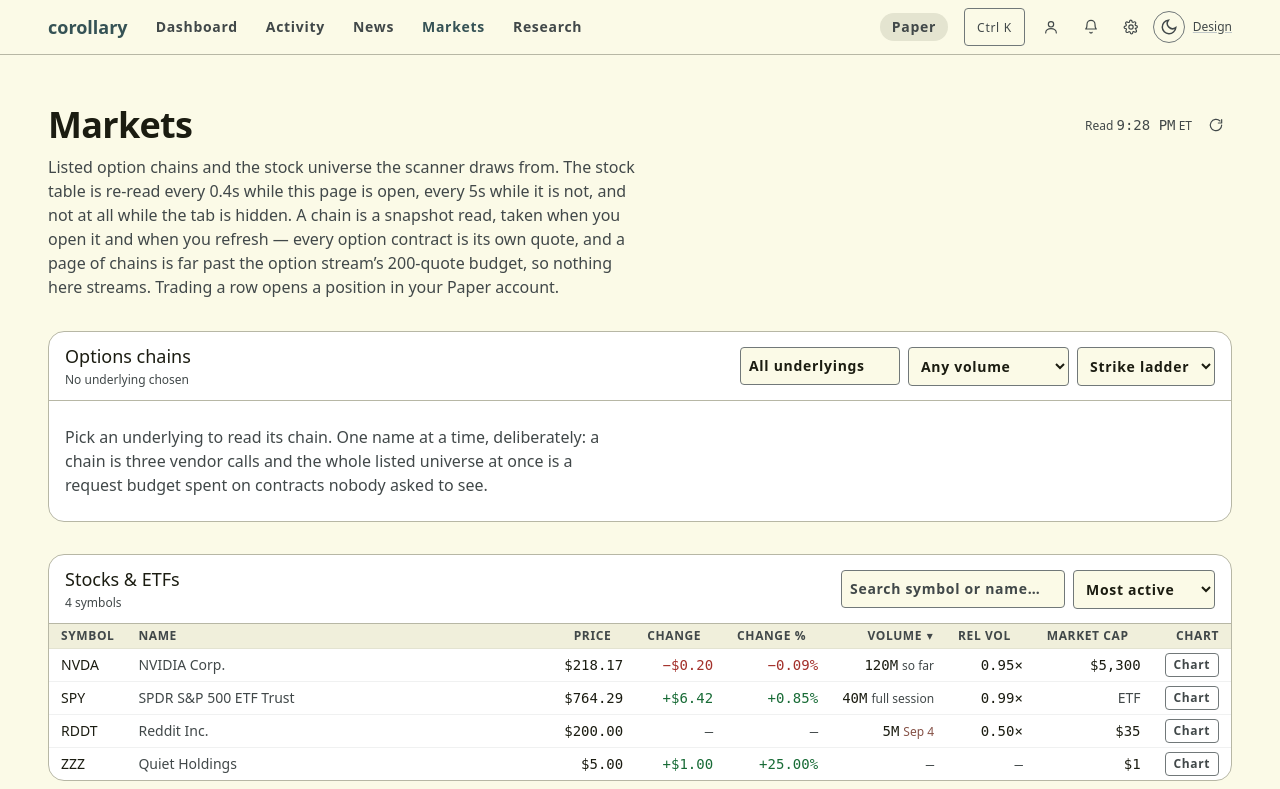
Test: open interest, per decision 15 › prints a real zero and an absence differently
Check: the text "NVIDIA Corp." is shown, box [138, 655, 225, 674]
Step 1. Type "NVDA" into the dropdown with placeholder "All underlyings" → {"x": 820, "y": 366}, box [740, 347, 900, 385]
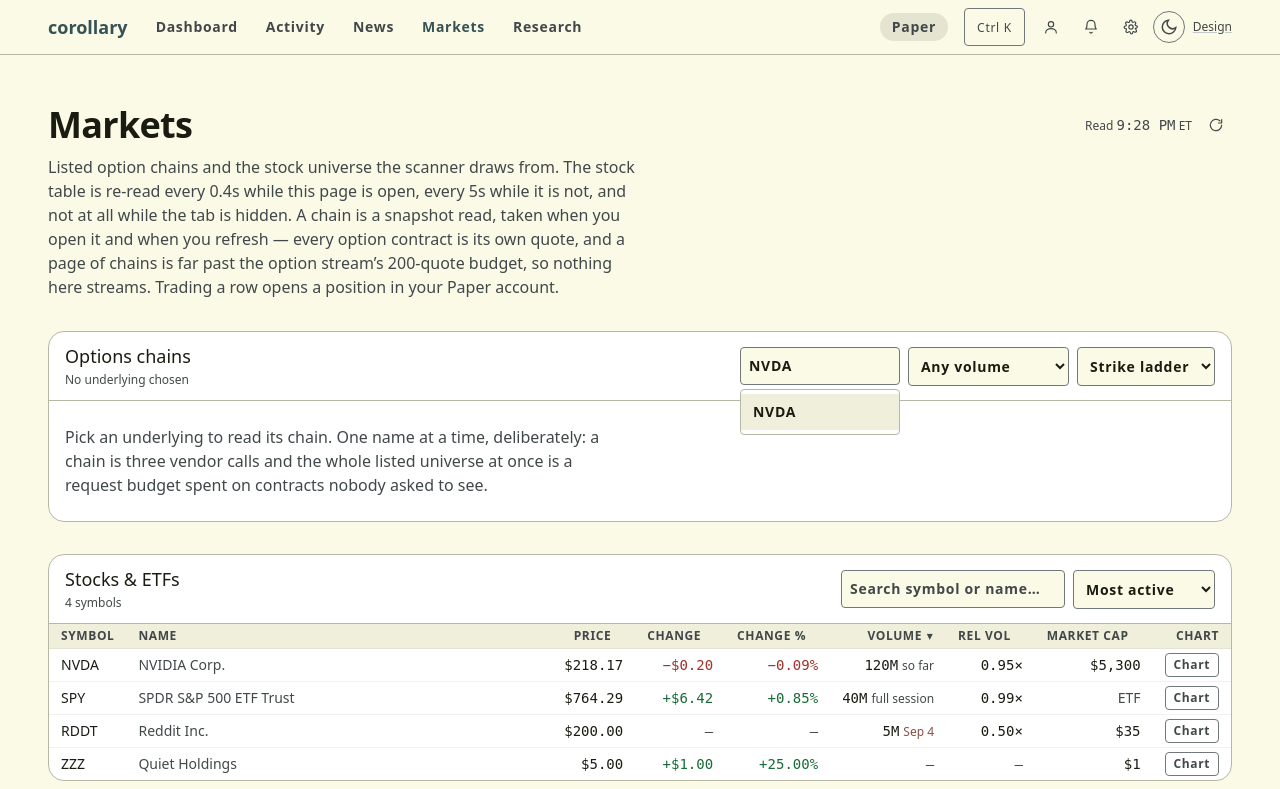
Step 2. Press the mouse on the option "NVDA" → {"x": 820, "y": 412}, box [741, 394, 899, 430]
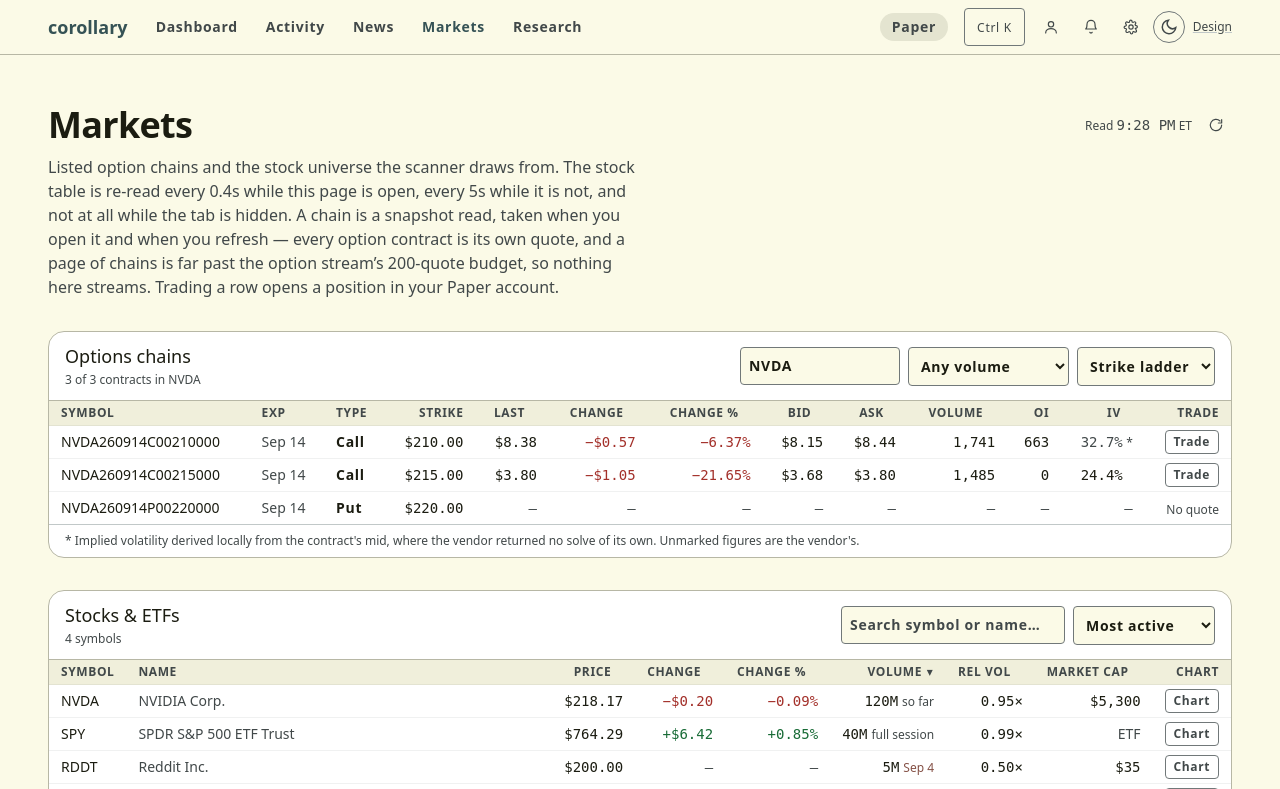
Check: the 7th element showing "—" is shown, box [1041, 500, 1049, 516]
Check: the text "NVDA260914C00210000" is shown, box [49, 426, 250, 458]
